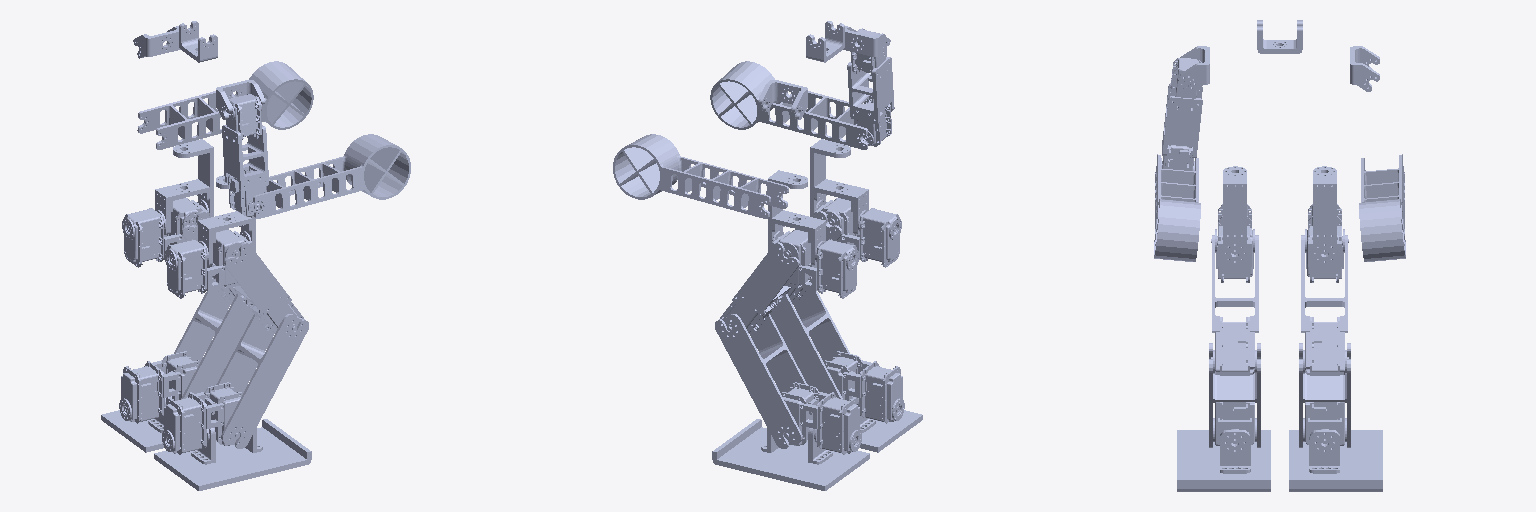
--- Facts derived from the render (not from the file) ---
Views: 3 orthographic renders of the robot side by side, from view 1: azimuth 30°, elevation 25°; view 2: azimuth 150°, elevation 25°; view 3: azimuth 270°, elevation 25°.
Robot: kubot23N — 21 links, 20 joints (12 revolute, 8 fixed); root link base_link; default pose: all joints at 0.
Visible links, largest first — view 1: R_hand_pitch, R_Knee, L_hand_pitch, R_Ankle_roll, L_Knee, R_elbow_roll, R_Ankle_pitch, L_Ankle_pitch, R_Hip_roll, L_Hip_roll, R_Hip_pitch, L_Hip_yaw (+5 smaller); view 2: L_hand_pitch, L_Knee, R_hand_pitch, L_Ankle_roll, R_Knee, L_Ankle_pitch, R_Ankle_pitch, L_Hip_roll, R_elbow_roll, R_Hip_roll, L_Hip_pitch, R_Hip_yaw (+5 smaller); view 3: L_Ankle_roll, R_Ankle_roll, L_hand_pitch, R_hand_pitch, L_Hip_pitch, R_Hip_pitch, R_elbow_roll, L_Ankle_pitch, R_Ankle_pitch, L_Hip_yaw, R_Hip_yaw, L_Knee (+6 smaller).
Link boxes in pixels (x1=…): R_hand_pitch: x1=253, y1=134, x2=410, y2=218; R_Knee: x1=216, y1=314, x2=308, y2=448; L_hand_pitch: x1=137, y1=61, x2=313, y2=149; R_Ankle_roll: x1=154, y1=419, x2=311, y2=490; L_Knee: x1=174, y1=290, x2=253, y2=398; R_elbow_roll: x1=222, y1=94, x2=268, y2=216; R_Ankle_pitch: x1=162, y1=382, x2=262, y2=454; L_Ankle_pitch: x1=119, y1=351, x2=200, y2=423; R_Hip_roll: x1=165, y1=230, x2=251, y2=298; L_Hip_roll: x1=122, y1=198, x2=209, y2=267; R_Hip_pitch: x1=224, y1=229, x2=303, y2=332; L_Hip_yaw: x1=155, y1=139, x2=213, y2=234; L_hand_pitch: x1=613, y1=134, x2=788, y2=218; L_Knee: x1=715, y1=314, x2=807, y2=448; R_hand_pitch: x1=710, y1=61, x2=867, y2=149; L_Ankle_roll: x1=712, y1=419, x2=869, y2=490; R_Knee: x1=770, y1=290, x2=849, y2=398; L_Ankle_pitch: x1=761, y1=382, x2=861, y2=454; R_Ankle_pitch: x1=823, y1=351, x2=904, y2=423; L_Hip_roll: x1=772, y1=230, x2=858, y2=298; R_elbow_roll: x1=847, y1=28, x2=894, y2=146; R_Hip_roll: x1=814, y1=198, x2=901, y2=267; L_Hip_pitch: x1=720, y1=229, x2=799, y2=332; R_Hip_yaw: x1=810, y1=139, x2=868, y2=234; L_Ankle_roll: x1=1289, y1=430, x2=1382, y2=491; R_Ankle_roll: x1=1177, y1=430, x2=1270, y2=491; L_hand_pitch: x1=1359, y1=154, x2=1405, y2=261; R_hand_pitch: x1=1154, y1=154, x2=1200, y2=261; L_Hip_pitch: x1=1301, y1=235, x2=1348, y2=375; R_Hip_pitch: x1=1211, y1=235, x2=1258, y2=375; R_elbow_roll: x1=1161, y1=58, x2=1202, y2=170; L_Ankle_pitch: x1=1303, y1=402, x2=1346, y2=473; R_Ankle_pitch: x1=1213, y1=402, x2=1256, y2=473; L_Hip_yaw: x1=1313, y1=166, x2=1336, y2=266; R_Hip_yaw: x1=1223, y1=166, x2=1246, y2=266; L_Knee: x1=1299, y1=343, x2=1350, y2=447.
Bounding box of the posed robot: 0.2926 × 0.2945 × 0.5607 m (x, y, z).
18 mesh visuals loaded from 21 distinct referenced files (18 binary STL); not drawn: 3 (reference not matched to a file when rendering).

The robot description file, URDF, robot "kubot23N":
<?xml version="1.0" encoding="utf-8"?>
<!-- This URDF was automatically created by SolidWorks to URDF Exporter! Originally created by Stephen Brawner ([email redacted]) 
     Commit Version: 1.6.0-1-g15f4949  Build Version: 1.6.7594.29634
     For more information, please see http://wiki.ros.org/sw_urdf_exporter -->
<robot
  name="kubot23N">
  <link
    name="base_link">
    <inertial>
      <origin
        xyz="-0.01298 -0.0002287 0.10165"
        rpy="0 0 0" />
      <mass
        value="1.5013" />
      <inertia
        ixx="0.002447"
        ixy="0"
        ixz="0"
        iyy="0.0016369"
        iyz="0"
        izz="0.002646" />
    </inertial>
    <visual>
      <origin
        xyz="0 0 0"
        rpy="0 0 0" />
      <geometry>
        <mesh
          filename="../meshes/base_link.STL" />
      </geometry>
      <material
        name="">
        <color
          rgba="0.79216 0.81961 0.93333 1" />
      </material>
    </visual>
    <collision>
      <origin
        xyz="0 0 0"
        rpy="0 0 0" />
      <geometry>
        <mesh
          filename="../meshes/base_link.STL" />
      </geometry>
    </collision>
  </link>
  <link
    name="L_Hip_yaw">
    <inertial>
      <origin
        xyz="0.0079905 -7.6661E-09 0.037856"
        rpy="0 0 0" />
      <mass
        value="0.042373" />
      <inertia
        ixx="2.0934E-05"
        ixy="0"
        ixz="0"
        iyy="2.3301E-05"
        iyz="0"
        izz="8.0568E-06" />
    </inertial>
    <visual>
      <origin
        xyz="0 0 0"
        rpy="0 0 0" />
      <geometry>
        <mesh
          filename="../meshes/L_Hip_yaw.STL" />
      </geometry>
      <material
        name="">
        <color
          rgba="0.79216 0.81961 0.93333 1" />
      </material>
    </visual>
    <collision>
      <origin
        xyz="0 0 0"
        rpy="0 0 0" />
      <geometry>
        <mesh
          filename="../meshes/L_Hip_yaw.STL" />
      </geometry>
    </collision>
  </link>
  <joint
    name="L_Hip_yaw_joint"
    type="fixed">
    <origin
      xyz="0.02369 0.052535 -0.026869"
      rpy="0 0 0" />
    <parent
      link="base_link" />
    <child
      link="L_Hip_yaw" />
    <axis
      xyz="0 0 1" />
    <limit command_effort="40" current="10" effort="80" gear_velocity="10" lower="-0.01" upper="0.01" velocity="15"/>
    <dynamics damping="1.0" friction="0.1"/>
  </joint>
  <link
    name="L_Hip_roll">
    <inertial>
      <origin
        xyz="-0.026534 3.8583E-05 -0.015186"
        rpy="0 0 0" />
      <mass
        value="0.16184" />
      <inertia
        ixx="5.7094E-05"
        ixy="0"
        ixz="0"
        iyy="5.6447E-05"
        iyz="0"
        izz="3.5594E-05" />
    </inertial>
    <visual>
      <origin
        xyz="0 0 0"
        rpy="0 0 0" />
      <geometry>
        <mesh
          filename="../meshes/L_Hip_roll.STL" />
      </geometry>
      <material
        name="">
        <color
          rgba="0.79216 0.81961 0.93333 1" />
      </material>
    </visual>
    <collision>
      <origin
        xyz="0 0 0"
        rpy="0 0 0" />
      <geometry>
        <mesh
          filename="../meshes/L_Hip_roll.STL" />
      </geometry>
    </collision>
  </link>
  <joint
    name="L_Hip_roll_joint"
    type="revolute">
    <origin
      xyz="0 0 0"
      rpy="0 0 0" />
    <parent
      link="L_Hip_yaw" />
    <child
      link="L_Hip_roll" />
    <axis
      xyz="-1 0 0" />
    <limit command_effort="40" current="10" effort="80" gear_velocity="10" lower="-0.3" upper="0.175" velocity="15"/>
    <dynamics damping="1.0" friction="0.1"/>
  </joint>
  <link
    name="L_Hip_pitch">
    <inertial>
      <origin
        xyz="-0.00049308 0.00014973 -0.10339"
        rpy="0 0 0" />
      <mass
        value="0.13309" />
      <inertia
        ixx="0.00010704"
        ixy="0"
        ixz="0"
        iyy="7.9626E-05"
        iyz="0"
        izz="5.4203E-05" />
    </inertial>
    <visual>
      <origin
        xyz="0 0 0"
        rpy="0 0 0" />
      <geometry>
        <mesh
          filename="../meshes/L_Hip_pitch.STL" />
      </geometry>
      <material
        name="">
        <color
          rgba="0.79216 0.81961 0.93333 1" />
      </material>
    </visual>
    <collision>
      <origin
        xyz="0 0 0"
        rpy="0 0 0" />
      <geometry>
        <mesh
          filename="../meshes/L_Hip_pitch.STL" />
      </geometry>
    </collision>
  </link>
  <joint
    name="L_Hip_pitch_joint"
    type="revolute">
    <origin
      xyz="0 0 0"
      rpy="0 -0.592069 0" />
    <parent
      link="L_Hip_roll" />
    <child
      link="L_Hip_pitch" />
    <axis
      xyz="0 -1 0" />
    <limit command_effort="40" current="10" effort="80" gear_velocity="10" lower="-0.795" upper="2.094" velocity="15"/>
    <dynamics damping="1.0" friction="0.1"/>
  </joint>
  <link
    name="L_Knee">
    <inertial>
      <origin
        xyz="-0.0008 0.00019995 -0.071592"
        rpy="0 0 0" />
      <mass
        value="0.064192" />
      <inertia
        ixx="0.00017283"
        ixy="0"
        ixz="0"
        iyy="0.00013756"
        iyz="0"
        izz="5.3025E-05" />
    </inertial>
    <visual>
      <origin
        xyz="0 0 0"
        rpy="0 0 0" />
      <geometry>
        <mesh
          filename="../meshes/L_Knee.STL" />
      </geometry>
      <material
        name="">
        <color
          rgba="0.79216 0.81961 0.93333 1" />
      </material>
    </visual>
    <collision>
      <origin
        xyz="0 0 0"
        rpy="0 0 0" />
      <geometry>
        <mesh
          filename="../meshes/L_Knee.STL" />
      </geometry>
    </collision>
  </link>
  <joint
    name="L_Knee_joint"
    type="revolute">
    <origin
      xyz="0 0 -0.142"
      rpy="0 1.160804 0" />
    <parent
      link="L_Hip_pitch" />
    <child
      link="L_Knee" />
    <axis
      xyz="0 -1 0" />
    <limit command_effort="40" current="10" effort="80" gear_velocity="10" lower="-1" upper="0.5" velocity="15"/>
    <dynamics damping="1.0" friction="0.1"/>
  </joint>
  <link
    name="L_Ankle_pitch">
    <inertial>
      <origin
        xyz="-0.023428 0.00014941 0.013986"
        rpy="0 0 0" />
      <mass
        value="0.202" />
      <inertia
        ixx="8.0067E-05"
        ixy="0"
        ixz="0"
        iyy="7.8271E-05"
        iyz="0"
        izz="4.9146E-05" />
    </inertial>
    <visual>
      <origin
        xyz="0 0 0"
        rpy="0 0 0" />
      <geometry>
        <mesh
          filename="../meshes/L_Ankle_pitch.STL" />
      </geometry>
      <material
        name="">
        <color
          rgba="0.79216 0.81961 0.93333 1" />
      </material>
    </visual>
    <collision>
      <origin
        xyz="0 0 0"
        rpy="0 0 0" />
      <geometry>
        <mesh
          filename="../meshes/L_Ankle_pitch.STL" />
      </geometry>
    </collision>
  </link>
  <joint
    name="L_Ankle_pitch_joint"
    type="revolute">
    <origin
      xyz="0 0 -0.15"
      rpy="0 -0.568735 0" />
    <parent
      link="L_Knee" />
    <child
      link="L_Ankle_pitch" />
    <axis
      xyz="0 -1 0" />
    <limit command_effort="40" current="10" effort="80" gear_velocity="10" lower="-0.3" upper="0.6" velocity="15"/>
    <dynamics damping="1.0" friction="0.1"/>
  </joint>
  <link
    name="L_Ankle_roll">
    <inertial>
      <origin
        xyz="0.0032401 0.011838 -0.036203"
        rpy="0 0 0" />
      <mass
        value="0.13947" />
      <inertia
        ixx="0.00013469"
        ixy="0"
        ixz="0"
        iyy="0.00029939"
        iyz="0"
        izz="0.0004274" />
    </inertial>
    <visual>
      <origin
        xyz="0 0 0"
        rpy="0 0 0" />
      <geometry>
        <mesh
          filename="../meshes/L_Ankle_roll.STL" />
      </geometry>
      <material
        name="">
        <color
          rgba="0.79216 0.81961 0.93333 1" />
      </material>
    </visual>
    <collision>
      <origin
        xyz="0 0 0"
        rpy="0 0 0" />
      <geometry>
        <mesh
          filename="../meshes/L_Ankle_roll.STL" />
      </geometry>
    </collision>
  </link>
  <joint
    name="L_Ankle_roll_joint"
    type="revolute">
    <origin
      xyz="0 0 0"
      rpy="0 0 0" />
    <parent
      link="L_Ankle_pitch" />
    <child
      link="L_Ankle_roll" />
    <axis
      xyz="-1 0 0" />
    <limit command_effort="40" current="10" effort="80" gear_velocity="10" lower="-0.05" upper="0.05" velocity="15"/>
    <dynamics damping="0.707" friction="0.1"/>
  </joint>
  <link
    name="R_Hip_yaw">
    <inertial>
      <origin
        xyz="0.0079905 -7.6661E-09 0.037856"
        rpy="0 0 0" />
      <mass
        value="0.042373" />
      <inertia
        ixx="2.0934E-05"
        ixy="0"
        ixz="0"
        iyy="2.3301E-05"
        iyz="0"
        izz="8.0568E-06" />
    </inertial>
    <visual>
      <origin
        xyz="0 0 0"
        rpy="0 0 0" />
      <geometry>
        <mesh
          filename="../meshes/R_Hip_yaw.STL" />
      </geometry>
      <material
        name="">
        <color
          rgba="0.79216 0.81961 0.93333 1" />
      </material>
    </visual>
    <collision>
      <origin
        xyz="0 0 0"
        rpy="0 0 0" />
      <geometry>
        <mesh
          filename="../meshes/R_Hip_yaw.STL" />
      </geometry>
    </collision>
  </link>
  <joint
    name="R_Hip_yaw_joint"
    type="revolute">
    <origin
      xyz="0.02369 -0.052065 -0.026869"
      rpy="0 0 0" />
    <parent
      link="base_link" />
    <child
      link="R_Hip_yaw" />
    <axis
      xyz="0 0 1" />
    <limit command_effort="40" current="10" effort="80" gear_velocity="10" lower="-0.1" upper="0.1" velocity="15"/>
    <dynamics damping="0.707" friction="0.1"/>
  </joint>
  <link
    name="R_Hip_roll">
    <inertial>
      <origin
        xyz="-0.026534 -3.8624E-05 -0.015186"
        rpy="0 0 0" />
      <mass
        value="0.16184" />
      <inertia
        ixx="5.7094E-05"
        ixy="0"
        ixz="0"
        iyy="5.6447E-05"
        iyz="0"
        izz="3.5594E-05" />
    </inertial>
    <visual>
      <origin
        xyz="0 0 0"
        rpy="0 0 0" />
      <geometry>
        <mesh
          filename="../meshes/R_Hip_roll.STL" />
      </geometry>
      <material
        name="">
        <color
          rgba="0.79216 0.81961 0.93333 1" />
      </material>
    </visual>
    <collision>
      <origin
        xyz="0 0 0"
        rpy="0 0 0" />
      <geometry>
        <mesh
          filename="../meshes/R_Hip_roll.STL" />
      </geometry>
    </collision>
  </link>
  <joint
    name="R_Hip_roll_joint"
    type="revolute">
    <origin
      xyz="0 0 0"
      rpy="0 0 0" />
    <parent
      link="R_Hip_yaw" />
    <child
      link="R_Hip_roll" />
    <axis
      xyz="-1 0 0" />
    <limit command_effort="40" current="10" effort="80" gear_velocity="10" lower="-0.175" upper="0.3" velocity="15"/>
    <dynamics damping="1.0" friction="0.1"/>
  </joint>
  <link
    name="R_Hip_pitch">
    <inertial>
      <origin
        xyz="-0.0004978 -0.00014979 -0.10339"
        rpy="0 0 0" />
      <mass
        value="0.13309" />
      <inertia
        ixx="0.00010704"
        ixy="0"
        ixz="0"
        iyy="7.9626E-05"
        iyz="0"
        izz="5.4203E-05" />
    </inertial>
    <visual>
      <origin
        xyz="0 0 0"
        rpy="0 0 0" />
      <geometry>
        <mesh
          filename="../meshes/R_Hip_pitch.STL" />
      </geometry>
      <material
        name="">
        <color
          rgba="0.79216 0.81961 0.93333 1" />
      </material>
    </visual>
    <collision>
      <origin
        xyz="0 0 0"
        rpy="0 0 0" />
      <geometry>
        <mesh
          filename="../meshes/R_Hip_pitch.STL" />
      </geometry>
    </collision>
  </link>
  <joint
    name="R_Hip_pitch_joint"
    type="revolute">
    <origin
      xyz="0 0 0"
      rpy="0 -0.592069 0" />
    <parent
      link="R_Hip_roll" />
    <child
      link="R_Hip_pitch" />
    <axis
      xyz="0 1 0" />
    <limit command_effort="40" current="10" effort="80" gear_velocity="10" lower="-2.094" upper="0.795" velocity="15"/>
    <dynamics damping="1.0" friction="0.1"/>
  </joint>
  <link
    name="R_Knee">
    <inertial>
      <origin
        xyz="-0.0008 -0.00020005 -0.071592"
        rpy="0 0 0" />
      <mass
        value="0.064192" />
      <inertia
        ixx="0.00017283"
        ixy="0"
        ixz="0"
        iyy="0.00013756"
        iyz="0"
        izz="5.3025E-05" />
    </inertial>
    <visual>
      <origin
        xyz="0 0 0"
        rpy="0 0 0" />
      <geometry>
        <mesh
          filename="../meshes/R_Knee.STL" />
      </geometry>
      <material
        name="">
        <color
          rgba="0.79216 0.81961 0.93333 1" />
      </material>
    </visual>
    <collision>
      <origin
        xyz="0 0 0"
        rpy="0 0 0" />
      <geometry>
        <mesh
          filename="../meshes/R_Knee.STL" />
      </geometry>
    </collision>
  </link>
  <joint
    name="R_Knee_joint"
    type="revolute">
    <origin
      xyz="0 0 -0.142"
      rpy="0 1.160804 0" />
    <parent
      link="R_Hip_pitch" />
    <child
      link="R_Knee" />
    <axis
      xyz="0 1 0" />
    <limit command_effort="40" current="10" effort="80" gear_velocity="10" lower="-0.5" upper="1.0" velocity="15"/>
    <dynamics damping="1.0" friction="0.1"/>
  </joint>
  <link
    name="R_Ankle_pitch">
    <inertial>
      <origin
        xyz="-0.023731 -0.00015295 0.01407"
        rpy="0 0 0" />
      <mass
        value="0.20079" />
      <inertia
        ixx="7.9929E-05"
        ixy="0"
        ixz="0"
        iyy="7.8201E-05"
        iyz="0"
        izz="4.9077E-05" />
    </inertial>
    <visual>
      <origin
        xyz="0 0 0"
        rpy="0 0 0" />
      <geometry>
        <mesh
          filename="../meshes/R_Ankle_pitch.STL" />
      </geometry>
      <material
        name="">
        <color
          rgba="0.79216 0.81961 0.93333 1" />
      </material>
    </visual>
    <collision>
      <origin
        xyz="0 0 0"
        rpy="0 0 0" />
      <geometry>
        <mesh
          filename="../meshes/R_Ankle_pitch.STL" />
      </geometry>
    </collision>
  </link>
  <joint
    name="R_Ankle_pitch_joint"
    type="revolute">
    <origin
      xyz="0 0 -0.15"
      rpy="0 -0.568735 0" />
    <parent
      link="R_Knee" />
    <child
      link="R_Ankle_pitch" />
    <axis
      xyz="0 1 0" />
    <limit command_effort="40" current="10" effort="80" gear_velocity="10" lower="-0.6" upper="0.3" velocity="15"/>
    <dynamics damping="1.0" friction="0.1"/>
  </joint>
  <link
    name="R_Ankle_roll">
    <inertial>
      <origin
        xyz="0.0032401 -0.011838 -0.036203"
        rpy="0 0 0" />
      <mass
        value="0.13947" />
      <inertia
        ixx="0.00013469"
        ixy="0"
        ixz="0"
        iyy="0.00029939"
        iyz="0"
        izz="0.0004274" />
    </inertial>
    <visual>
      <origin
        xyz="0 0 0"
        rpy="0 0 0" />
      <geometry>
        <mesh
          filename="../meshes/R_Ankle_roll.STL" />
      </geometry>
      <material
        name="">
        <color
          rgba="0.79216 0.81961 0.93333 1" />
      </material>
    </visual>
    <collision>
      <origin
        xyz="0 0 0"
        rpy="0 0 0" />
      <geometry>
        <mesh
          filename="../meshes/R_Ankle_roll.STL" />
      </geometry>
    </collision>
  </link>
  <joint
    name="R_Ankle_roll_joint"
    type="revolute">
    <origin
      xyz="0 0 0"
      rpy="0 0 0" />
    <parent
      link="R_Ankle_pitch" />
    <child
      link="R_Ankle_roll" />
    <axis
      xyz="-1 0 0" />
    <limit command_effort="40" current="10" effort="80" gear_velocity="10" lower="-0.05" upper="0.05" velocity="15"/>
    <dynamics damping="0.707" friction="0.1"/>
  </joint>
  <link
    name="L_shoulder_pitch">
    <inertial>
      <origin
        xyz="-5.0536E-10 0.010248 -0.0016377"
        rpy="0 0 0" />
      <mass
        value="0.01447" />
      <inertia
        ixx="2.0393E-06"
        ixy="0"
        ixz="0"
        iyy="6.5772E-06"
        iyz="0"
        izz="6.757E-06" />
    </inertial>
    <visual>
      <origin
        xyz="0 0 0"
        rpy="0 0 0" />
      <geometry>
        <mesh
          filename="../meshes/L_shoulder_pitch.STL" />
      </geometry>
      <material
        name="">
        <color
          rgba="0.79216 0.81961 0.93333 1" />
      </material>
    </visual>
    <collision>
      <origin
        xyz="0 0 0"
        rpy="0 0 0" />
      <geometry>
        <mesh
          filename="../meshes/L_shoulder_pitch.STL" />
      </geometry>
    </collision>
  </link>
  <joint
    name="L_shoulder_pitch_joint"
    type="fixed">
    <origin
      xyz="0.01519 0.081985 0.19521"
      rpy="0 0 0" />
    <parent
      link="base_link" />
    <child
      link="L_shoulder_pitch" />
    <axis
      xyz="0 -1 0" />
    <limit command_effort="40" current="10" effort="80" gear_velocity="10" lower="-0.05" upper="0.05" velocity="15"/>
    <dynamics damping="0.707" friction="0.1"/>
  </joint>
  <link
    name="L_elbow_roll">
    <inertial>
      <origin
        xyz="-0.02074 1.0222E-05 -0.061881"
        rpy="0 0 0" />
      <mass
        value="0.12312" />
      <inertia
        ixx="4.1405E-05"
        ixy="0"
        ixz="0"
        iyy="4.4134E-05"
        iyz="0"
        izz="2.9326E-05" />
    </inertial>
    <visual>
      <origin
        xyz="0 0 0"
        rpy="0 0 0" />
      <geometry>
        <mesh
          filename="../meshes/L_elbow_roll.STL" />
      </geometry>
      <material
        name="">
        <color
          rgba="0.79216 0.81961 0.93333 1" />
      </material>
    </visual>
    <collision>
      <origin
        xyz="0 0 0"
        rpy="0 0 0" />
      <geometry>
        <mesh
          filename="../meshes/L_elbow_roll.STL" />
      </geometry>
    </collision>
  </link>
  <joint
    name="L_elbow_roll_joint"
    type="fixed">
    <origin
      xyz="0.020275 0.025656 -0.01045"
      rpy="0.1 0 0" />
    <parent
      link="L_shoulder_pitch" />
    <child
      link="L_elbow_roll" />
    <axis
      xyz="-1 0 0" />
    <limit command_effort="40" current="10" effort="80" gear_velocity="10" lower="-0.1" upper="0.03" velocity="15"/>
    <dynamics damping="1.0" friction="0.1"/>
  </joint>
  <link
    name="L_hand_pitch">
    <inertial>
      <origin
        xyz="-2.6021E-15 -0.020275 -0.13605"
        rpy="0 0 0" />
      <mass
        value="0.085842" />
      <inertia
        ixx="0.00035605"
        ixy="0"
        ixz="0"
        iyy="0.00035569"
        iyz="0"
        izz="4.765E-05" />
    </inertial>
    <visual>
      <origin
        xyz="0 0 0"
        rpy="0 0 0" />
      <geometry>
        <mesh
          filename="../meshes/L_hand_pitch.STL" />
      </geometry>
      <material
        name="">
        <color
          rgba="0.79216 0.81961 0.93333 1" />
      </material>
    </visual>
    <collision>
      <origin
        xyz="0 0 0"
        rpy="0 0 0" />
      <geometry>
        <mesh
          filename="../meshes/L_hand_pitch.STL" />
      </geometry>
    </collision>
  </link>
  <joint
    name="L_hand_pitch_joint"
    type="fixed">
    <origin
      xyz="-0.02075 0.02075 -0.1231"
      rpy="0 -1.6 0" />
    <parent
      link="L_elbow_roll" />
    <child
      link="L_hand_pitch" />
    <axis
      xyz="0 -1 0" />
    <limit command_effort="40" current="10" effort="80" gear_velocity="10" lower="-0.01" upper="0.03" velocity="15"/>
    <dynamics damping="0.707" friction="0.1"/>
  </joint>
  <link
    name="R_shoulder_pitch">
    <inertial>
      <origin
        xyz="5.0536E-10 -0.010248 -0.0016377"
        rpy="0 0 0" />
      <mass
        value="0.01447" />
      <inertia
        ixx="2.0393E-06"
        ixy="0"
        ixz="0"
        iyy="6.5772E-06"
        iyz="0"
        izz="6.757E-06" />
    </inertial>
    <visual>
      <origin
        xyz="0 0 0"
        rpy="0 0 0" />
      <geometry>
        <mesh
          filename="../meshes/R_shoulder_pitch.STL" />
      </geometry>
      <material
        name="">
        <color
          rgba="0.79216 0.81961 0.93333 1" />
      </material>
    </visual>
    <collision>
      <origin
        xyz="0 0 0"
        rpy="0 0 0" />
      <geometry>
        <mesh
          filename="../meshes/R_shoulder_pitch.STL" />
      </geometry>
    </collision>
  </link>
  <joint
    name="R_shoulder_pitch_joint"
    type="fixed">
    <origin
      xyz="0.01519 -0.081515 0.19521"
      rpy="0 0 0" />
    <parent
      link="base_link" />
    <child
      link="R_shoulder_pitch" />
    <axis
      xyz="0 1 0" />
    <limit command_effort="40" current="10" effort="80" gear_velocity="10" lower="-0.05" upper="0.05" velocity="15"/>
    <dynamics damping="0.707" friction="0.1"/>
  </joint>
  <link
    name="R_elbow_roll">
    <inertial>
      <origin
        xyz="-0.020741 -8.8027E-06 -0.061881"
        rpy="0 0 0" />
      <mass
        value="0.12312" />
      <inertia
        ixx="4.1405E-05"
        ixy="0"
        ixz="0"
        iyy="4.4134E-05"
        iyz="0"
        izz="2.9326E-05" />
    </inertial>
    <visual>
      <origin
        xyz="0 0 0"
        rpy="0 0 0" />
      <geometry>
        <mesh
          filename="../meshes/R_elbow_roll.STL" />
      </geometry>
      <material
        name="">
        <color
          rgba="0.79216 0.81961 0.93333 1" />
      </material>
    </visual>
    <collision>
      <origin
        xyz="0 0 0"
        rpy="0 0 0" />
      <geometry>
        <mesh
          filename="../meshes/R_elbow_roll.STL" />
      </geometry>
    </collision>
  </link>
  <joint
    name="R_elbow_roll_joint"
    type="fixed">
    <origin
      xyz="0.020275 -0.025656 -0.01045"
      rpy="-0.1 0 0" />
    <parent
      link="R_shoulder_pitch" />
    <child
      link="R_elbow_roll" />
    <axis
      xyz="-1 0 0" />
    <limit command_effort="40" current="10" effort="80" gear_velocity="10" lower="-0.03" upper="0.1" velocity="15"/>
    <dynamics damping="1.0" friction="0.1"/>
  </joint>
  <link
    name="R_hand_pitch">
    <inertial>
      <origin
        xyz="-4.8572E-16 0.020275 -0.13605"
        rpy="0 0 0" />
      <mass
        value="0.085842" />
      <inertia
        ixx="0.00035605"
        ixy="0"
        ixz="0"
        iyy="0.00035569"
        iyz="0"
        izz="4.765E-05" />
    </inertial>
    <visual>
      <origin
        xyz="0 0 0"
        rpy="0 0 0" />
      <geometry>
        <mesh
          filename="../meshes/R_hand_pitch.STL" />
      </geometry>
      <material
        name="">
        <color
          rgba="0.79216 0.81961 0.93333 1" />
      </material>
    </visual>
    <collision>
      <origin
        xyz="0 0 0"
        rpy="0 0 0" />
      <geometry>
        <mesh
          filename="../meshes/R_hand_pitch.STL" />
      </geometry>
    </collision>
  </link>
  <joint
    name="R_hand_pitch_joint"
    type="fixed">
    <origin
      xyz="-0.02075 -0.02075 -0.1231"
      rpy="0 -1.6 0" />
    <parent
      link="R_elbow_roll" />
    <child
      link="R_hand_pitch" />
    <axis
      xyz="0 1 0" />
    <limit command_effort="40" current="10" effort="80" gear_velocity="10" lower="-0.03" upper="0.01" velocity="15"/>
    <dynamics damping="0.707" friction="0.1"/>
  </joint>
  <link
    name="Neck_yaw">
    <inertial>
      <origin
        xyz="1.027E-15 2.3592E-16 0.010333"
        rpy="0 0 0" />
      <mass
        value="0.014237" />
      <inertia
        ixx="6.6446E-06"
        ixy="0"
        ixz="0"
        iyy="1.9564E-06"
        iyz="0"
        izz="6.2867E-06" />
    </inertial>
    <visual>
      <origin
        xyz="0 0 0"
        rpy="0 0 0" />
      <geometry>
        <mesh
          filename="../meshes/Neck_yaw.STL" />
      </geometry>
      <material
        name="">
        <color
          rgba="0.79216 0.81961 0.93333 1" />
      </material>
    </visual>
    <collision>
      <origin
        xyz="0 0 0"
        rpy="0 0 0" />
      <geometry>
        <mesh
          filename="../meshes/Neck_yaw.STL" />
      </geometry>
    </collision>
  </link>
  <joint
    name="Neck_yaw_joint"
    type="fixed">
    <origin
      xyz="0.01344 0.00023493 0.21516"
      rpy="0 0 0" />
    <parent
      link="base_link" />
    <child
      link="Neck_yaw" />
    <axis
      xyz="0 0 -1" />
    <limit command_effort="40" current="10" effort="80" gear_velocity="10" lower="-0.01" upper="0.01" velocity="15"/>
    <dynamics damping="0.707" friction="0.1"/>
  </joint>
  <link
    name="head_pitch">
    <inertial>
      <origin
        xyz="-0.00087615 -0.00049281 0.038502"
        rpy="0 0 0" />
      <mass
        value="0.14082" />
      <inertia
        ixx="0.0001309"
        ixy="0"
        ixz="0"
        iyy="2.5779E-05"
        iyz="0"
        izz="0.00012811" />
    </inertial>
    <visual>
      <origin
        xyz="0 0 0"
        rpy="0 0 0" />
      <geometry>
        <mesh
          filename="../meshes/head_pitch.STL" />
      </geometry>
      <material
        name="">
        <color
          rgba="0.79216 0.81961 0.93333 1" />
      </material>
    </visual>
    <collision>
      <origin
        xyz="0 0 0"
        rpy="0 0 0" />
      <geometry>
        <mesh
          filename="../meshes/head_pitch.STL" />
      </geometry>
    </collision>
  </link>
  <joint
    name="head_pitch_joint"
    type="revolute">
    <origin
      xyz="0 0 0.0275"
      rpy="0 0 0" />
    <parent
      link="Neck_yaw" />
    <child
      link="head_pitch" />
    <axis
      xyz="0 1 0" />
    <limit command_effort="40" current="10" effort="80" gear_velocity="10" lower="-0.01" upper="0.01" velocity="15"/>
    <dynamics damping="0.707" friction="0.1"/>
  </joint>
</robot>
